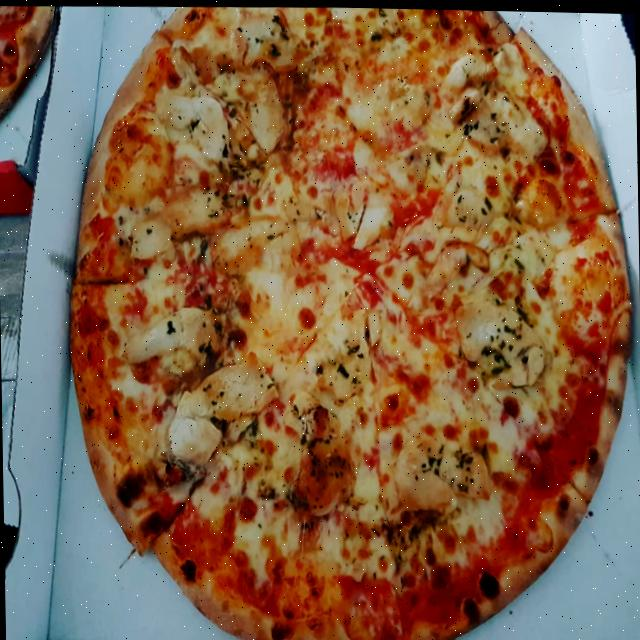pizza: (63, 1, 640, 640), (0, 4, 58, 126)
